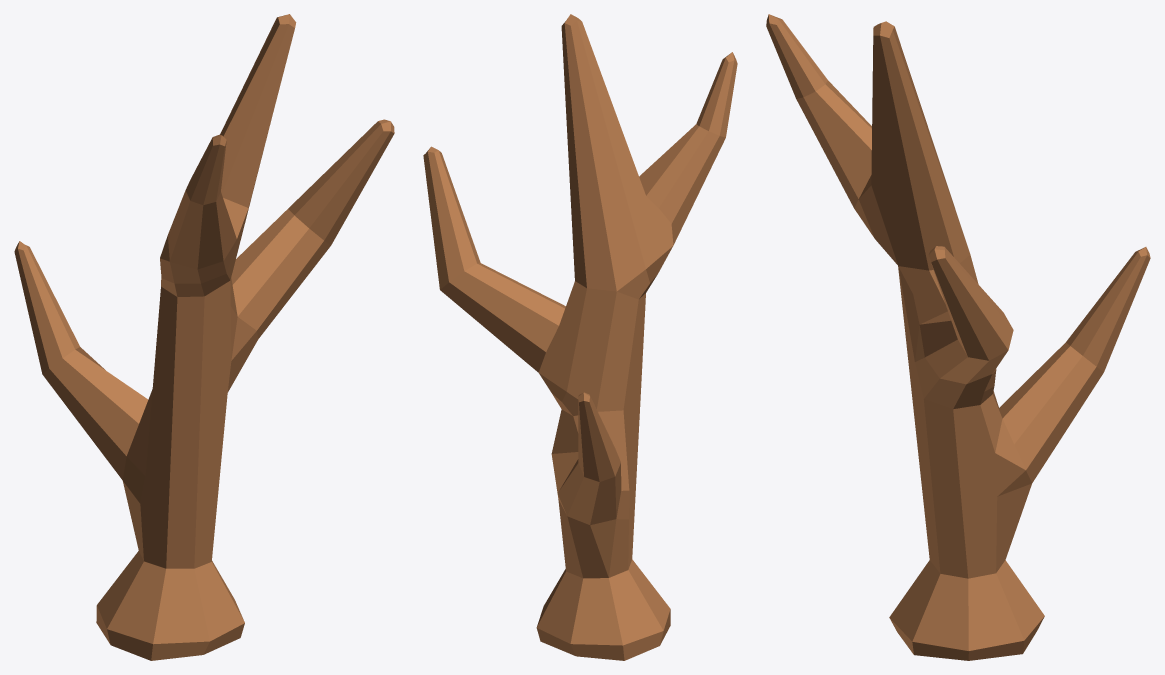
Rendered from Tree10.fbx.
3 renders of one model, left to right at view 1: azimuth 30°, elevation 25°; view 2: azimuth 150°, elevation 25°; view 3: azimuth 270°, elevation 25°, orthographic. The views are drawn at different scales.
Parts seen in each view (by area): view 1: Tree10; view 2: Tree10; view 3: Tree10.
Part boxes in pixels (box(x1,y1,x2,y2)): Tree10: box(14, 14, 394, 660); Tree10: box(423, 14, 737, 660); Tree10: box(766, 14, 1150, 660).
Size of the model in its own units: 215 by 460 by 247.
